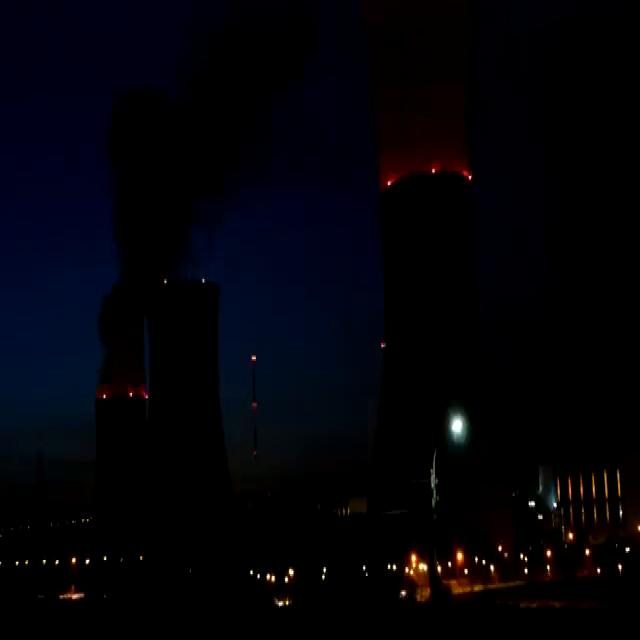smoke: (127, 0, 291, 295), (366, 0, 473, 192)
